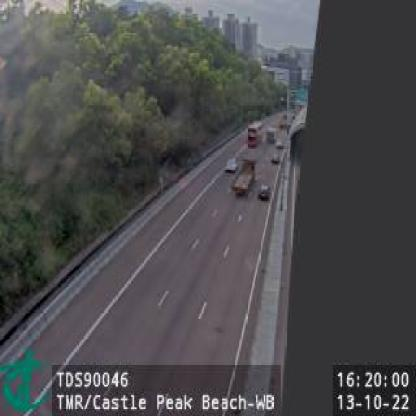Bus: (246, 122, 262, 148)
Car: (225, 156, 242, 173), (258, 184, 270, 203), (271, 148, 281, 164)
Truck: (232, 157, 258, 197)
